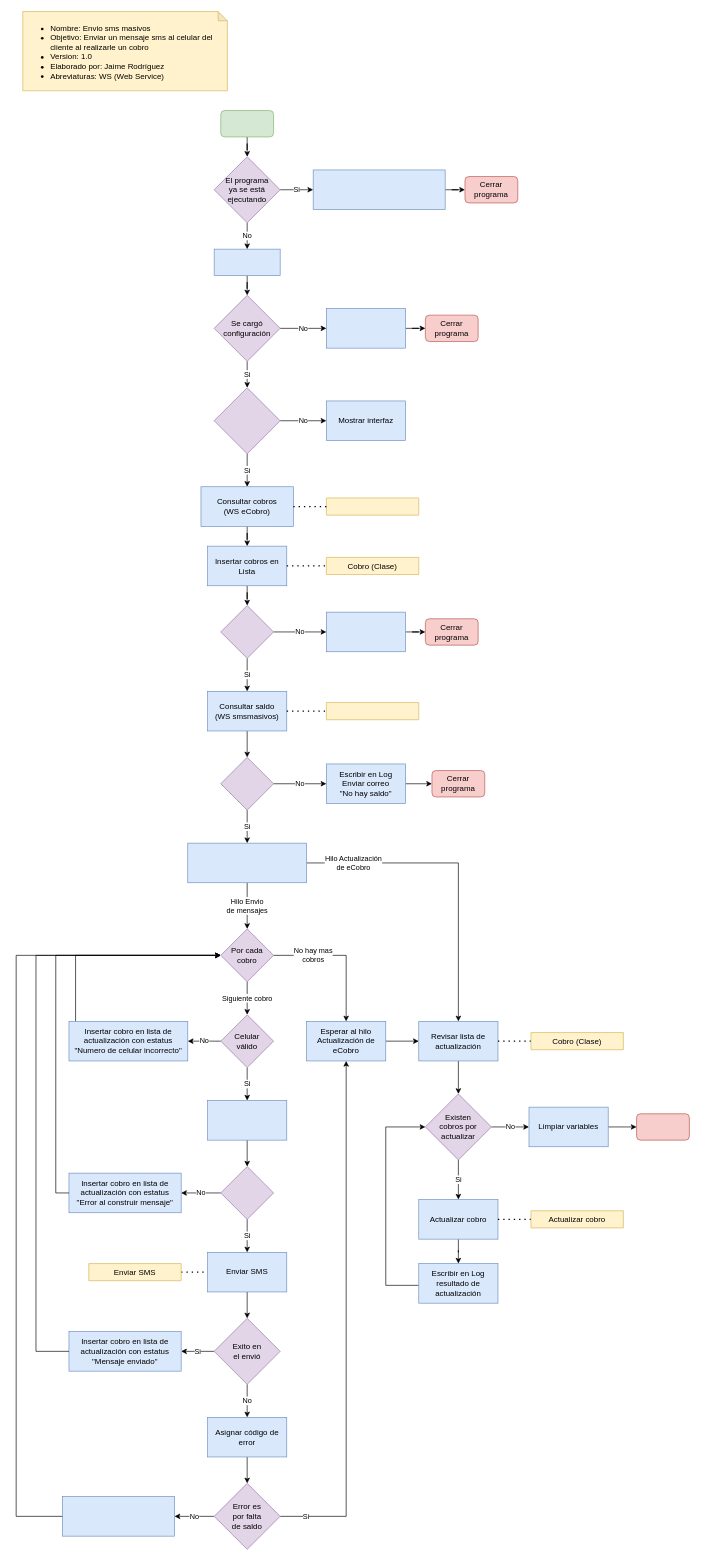
This 701x1561 diagram has some shape labels left out. Here are the shapes that lost their labels. From the top down, the centre of each, then its label:
point 247,123: Inicio del programa
point 379,189: Escribir en Log "No se inició el programa, ya existe una instancia en ejecución"
point 247,262: Cargar configuración
point 366,328: Escribir en Log Error al cargar configuracion
point 247,420: Ejecución automática
point 372,506: Consulta cobros
point 247,631: Hay cobros
point 366,631: Escribir en Log "No hay cobros"
point 372,711: Consulta saldo
point 247,783: Hay saldo
point 247,862: Crear 2 hilos: 1.- Envio de mensajes 2.- Actualización de eCobro
point 247,1120: Construir mensaje
point 662,1126: Fin
point 247,1192: Mensaje válido
point 118,1516: Insertar cobro en lista de actualización con estatus correspondiente
